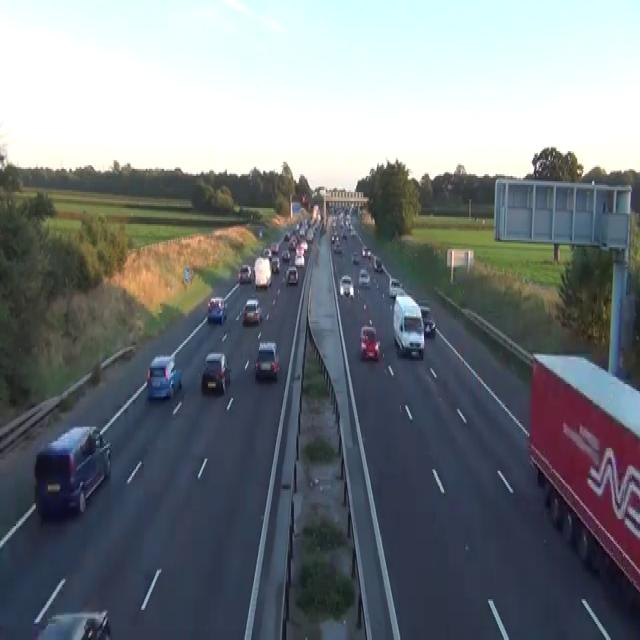Car: (34, 425, 112, 519), (31, 578, 112, 638), (34, 608, 111, 638), (146, 354, 182, 400), (201, 352, 231, 395), (254, 340, 279, 380), (359, 323, 379, 361), (207, 295, 227, 324), (418, 304, 435, 336), (241, 297, 261, 323), (339, 274, 354, 297), (237, 263, 252, 285), (389, 277, 404, 297), (285, 265, 298, 284), (423, 316, 435, 336), (358, 267, 370, 286), (418, 302, 430, 316), (271, 256, 280, 274), (373, 256, 382, 272), (361, 244, 371, 258), (294, 252, 304, 266), (262, 247, 272, 260), (305, 229, 314, 242), (288, 237, 297, 250), (333, 240, 342, 252), (281, 249, 290, 261), (331, 231, 339, 244), (351, 251, 359, 263), (270, 242, 278, 254), (300, 194, 307, 204), (362, 245, 367, 256), (341, 231, 347, 240), (284, 233, 290, 240), (367, 249, 371, 258), (258, 228, 262, 236)
Truck: (526, 350, 639, 608), (392, 293, 424, 359), (253, 256, 271, 288)
